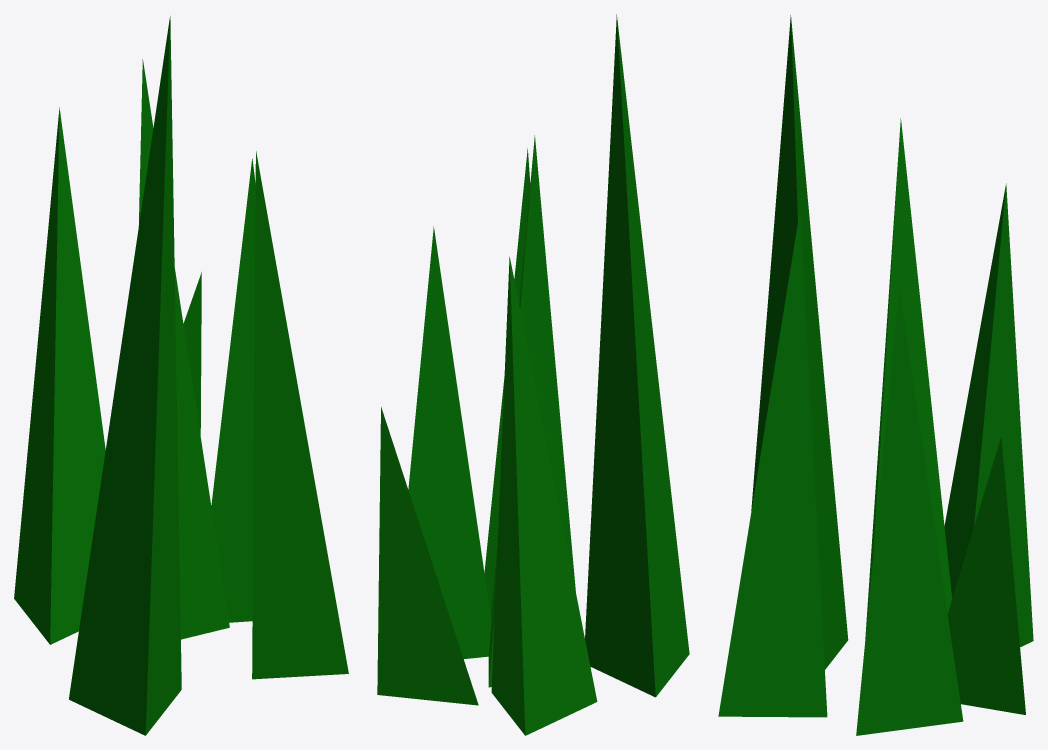
File: grass05.glb
3 renders of one model, left to right at view 1: azimuth 30°, elevation 25°; view 2: azimuth 150°, elevation 25°; view 3: azimuth 270°, elevation 25°, orthographic. The views are drawn at different scales.
Parts seen in each view (by area): view 1: Cone; view 2: Cone; view 3: Cone.
Boxes of the visible parts, bbox=[...] form: Cone: bbox=[14, 16, 348, 735]; Cone: bbox=[377, 14, 689, 735]; Cone: bbox=[718, 15, 1033, 735].
Bounding box in the file's own units: 4.24 × 11.43 × 4.95.
